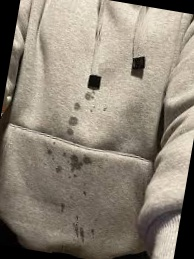oil: (66, 222, 99, 243), (66, 152, 92, 174), (77, 91, 96, 107), (64, 116, 78, 136), (96, 105, 109, 120), (70, 102, 82, 116), (58, 200, 66, 213), (53, 164, 63, 174), (45, 150, 52, 158), (79, 188, 86, 196), (53, 142, 60, 148)
